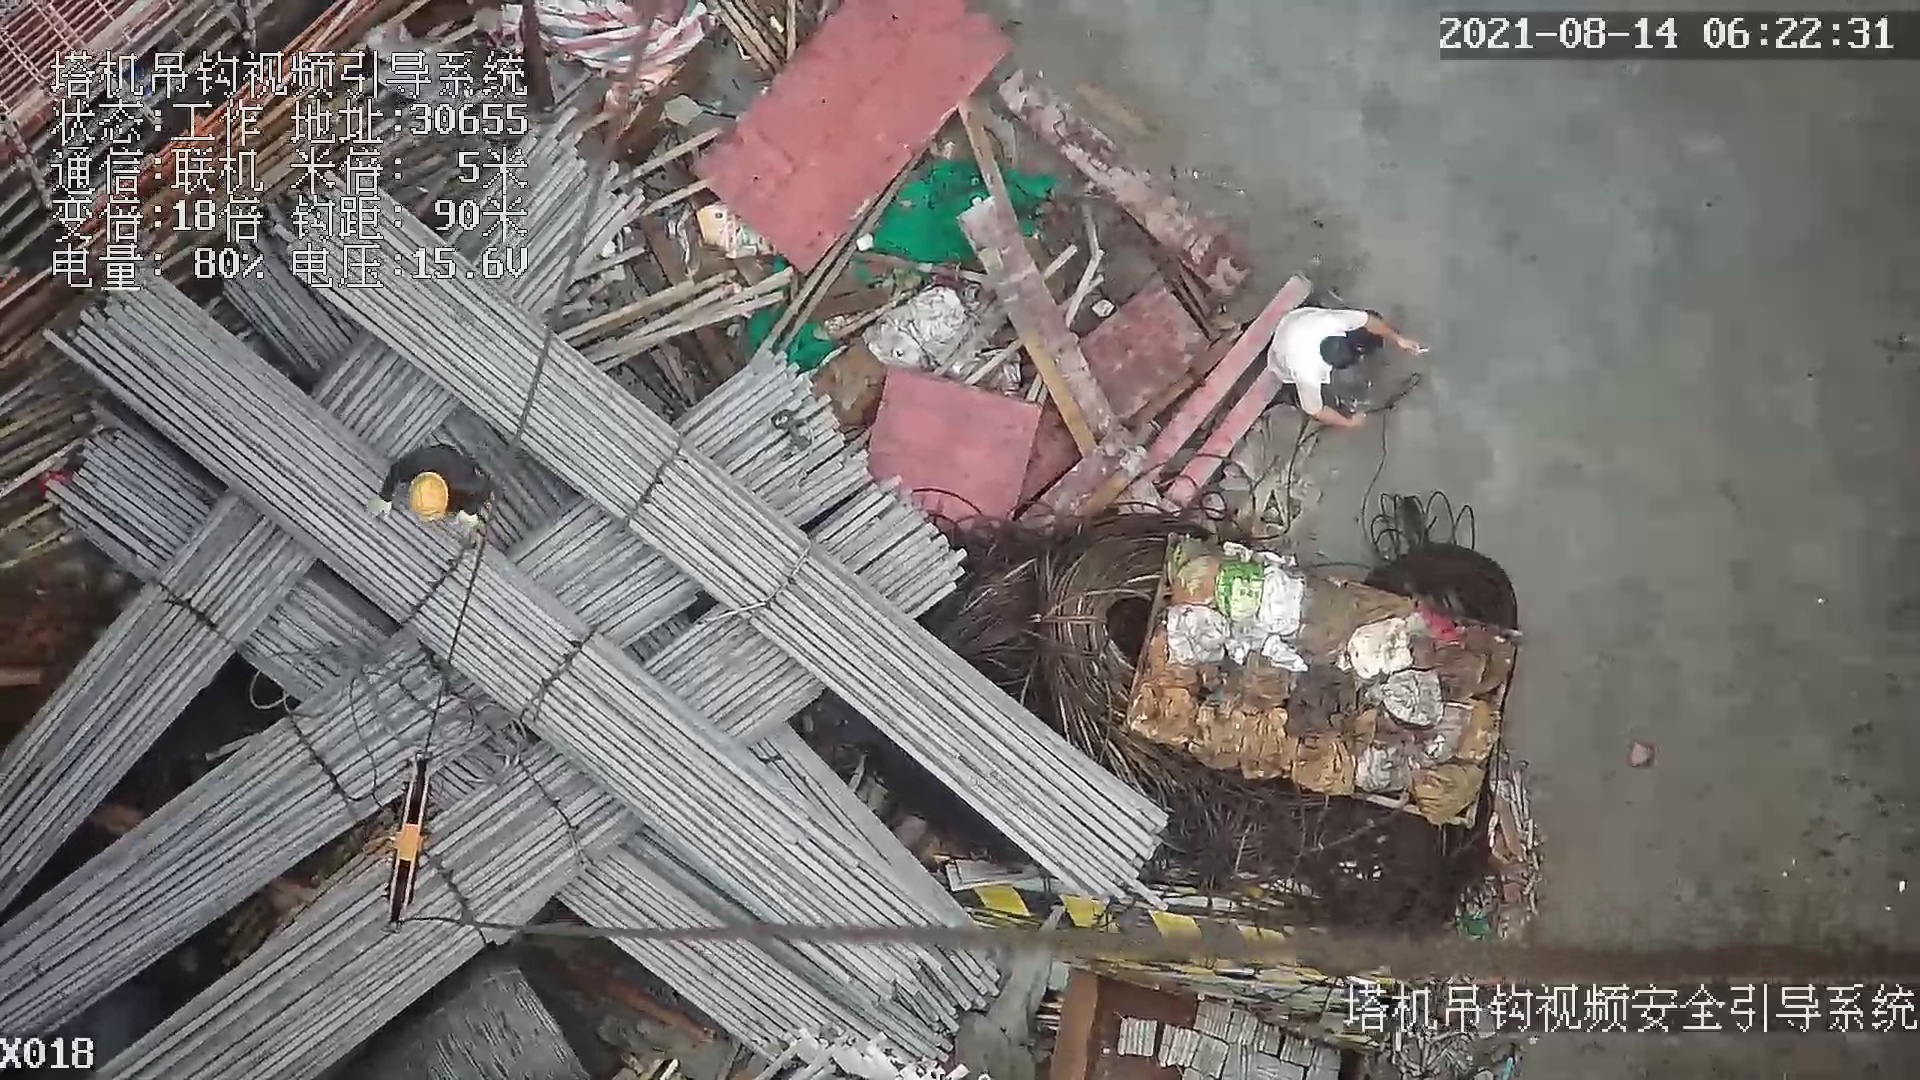board: (688, 2, 1017, 286)
helmet: (408, 471, 452, 522)
hook: (379, 750, 445, 931)
person: (1254, 304, 1432, 428), (362, 446, 496, 539)
